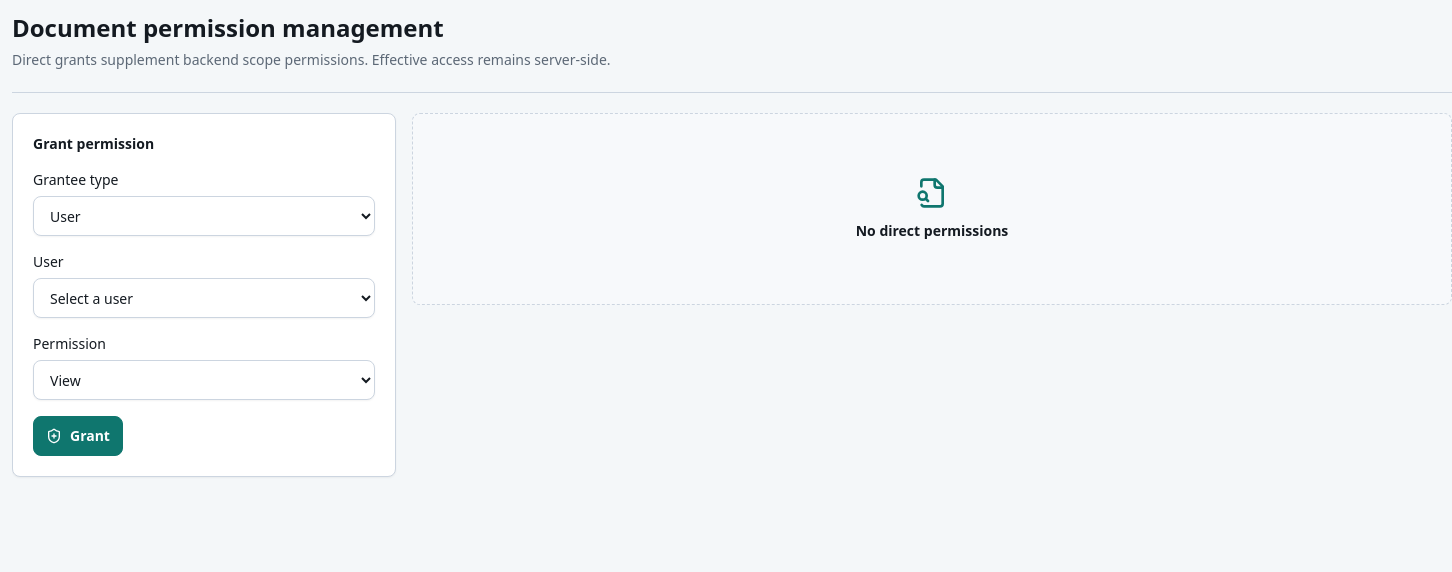
DocumentPermissionsPage › shows a retry state when department grantees cannot be loaded
The width and height of the screenshot is (1452, 572).
Select "Department" in the dropdown labelled "Grantee type" at (204, 216), box [33, 196, 375, 236]
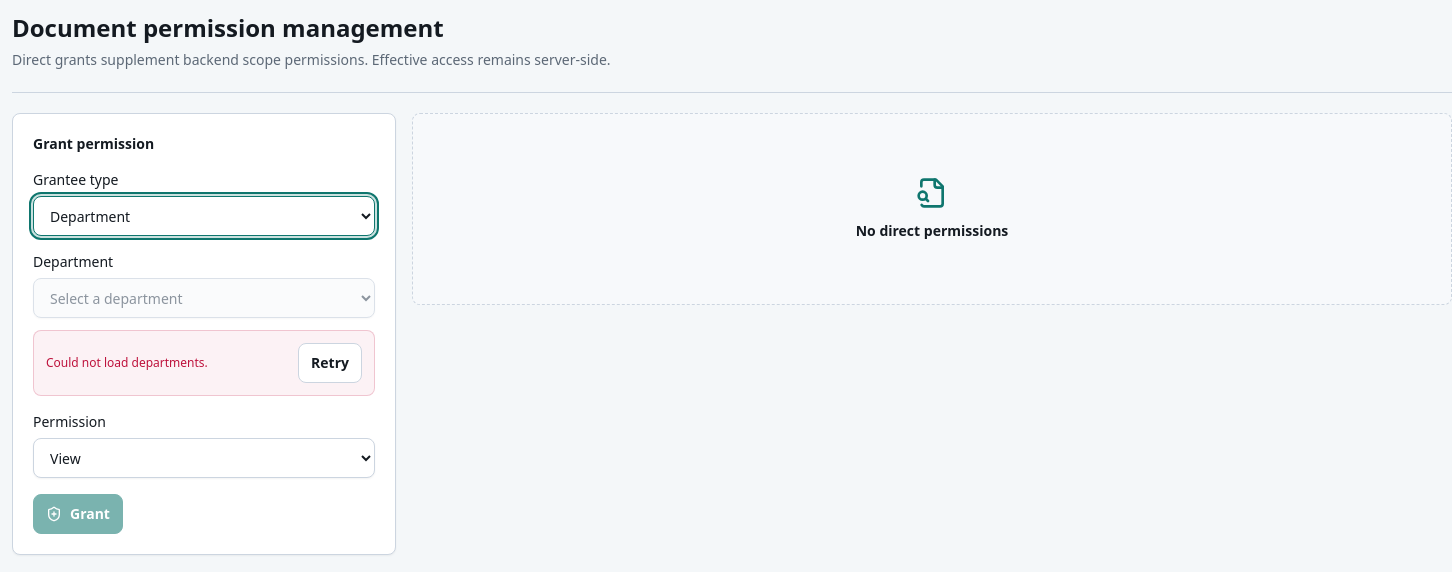
Expected: the message shows "Could not load departments.", [46, 354, 208, 371]
Expected: the button "Retry" is shown, [298, 343, 362, 383]
